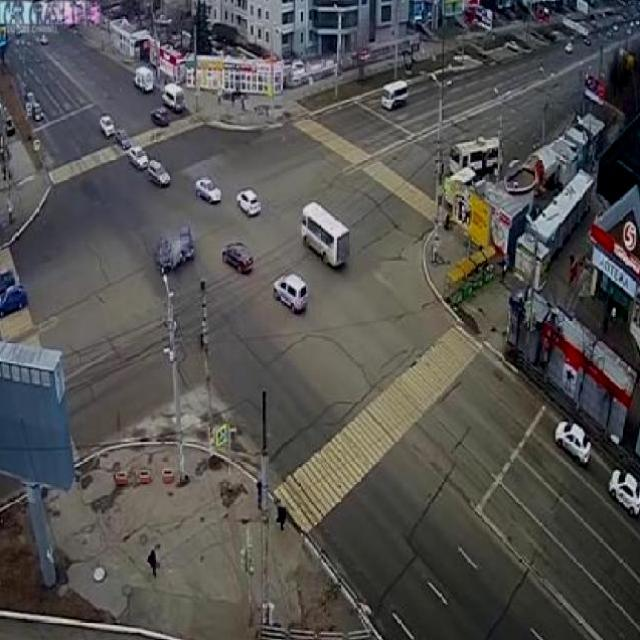accident: (165, 236, 187, 269)
